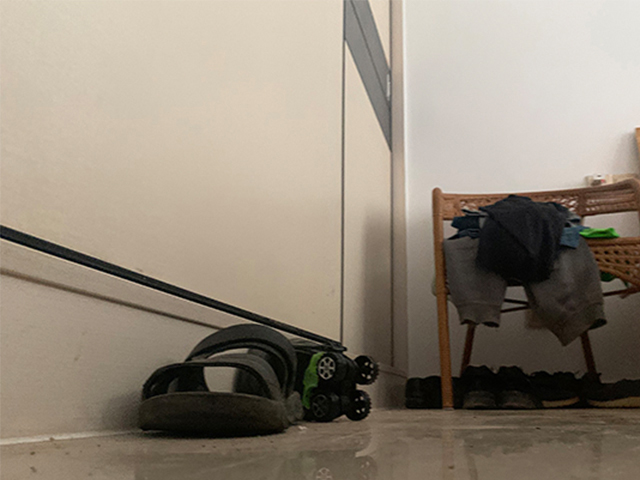cabinet: (1, 1, 408, 440)
slippers: (136, 323, 302, 437)
stool: (430, 179, 640, 413)
